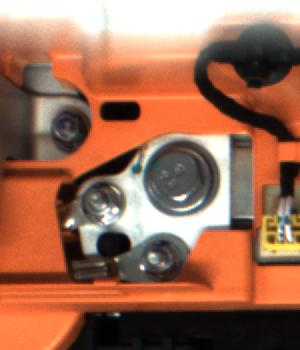nut_b: (139, 133, 228, 227)
